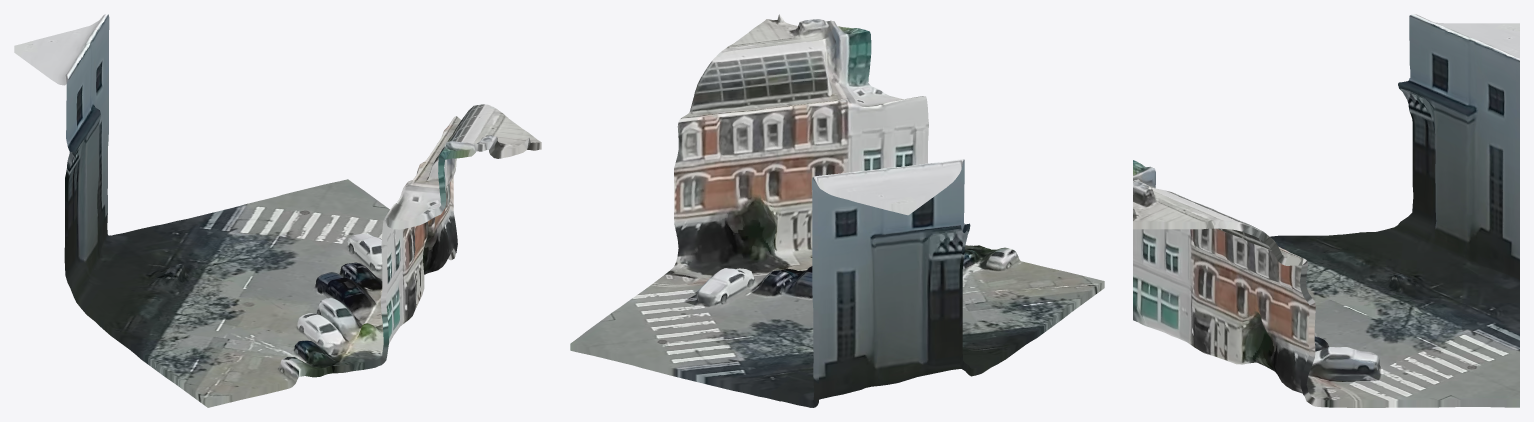
Rendered from z20-167792-405229-h0-yup-uvflip-v3-world.glb.
3 views of the same model, side by side, from view 1: azimuth 30°, elevation 25°; view 2: azimuth 150°, elevation 25°; view 3: azimuth 270°, elevation 25° (orthographic).
Bounding box in the file's own units: 30.16 × 20 × 30.32.
1 material, 1 textured.
